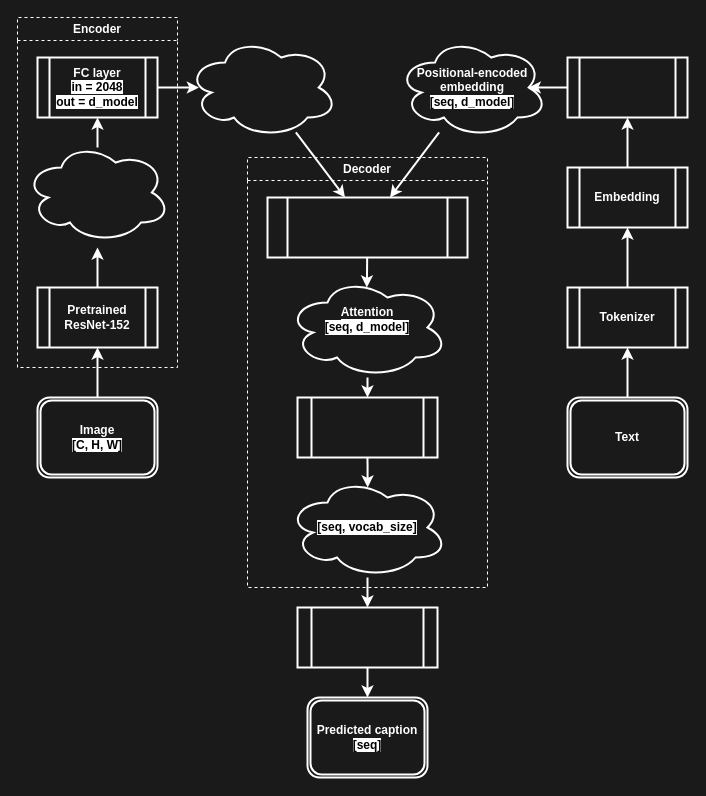
The diagram is 706 pixels wide and 796 high, and some of its shapes have lost their labels. Here are the shapes that lost their labels. From the top down, the centre of each, then its label:
(262,87): Feature map [h*w, d_model]
(627,87): Positional encoder
(97,192): Feature map [2048, h, w]
(367,227): Transformer module src = feature_map tgt = embedding
(367,427): FC layer in = d_model out = vocab_size
(367,637): Argmax
